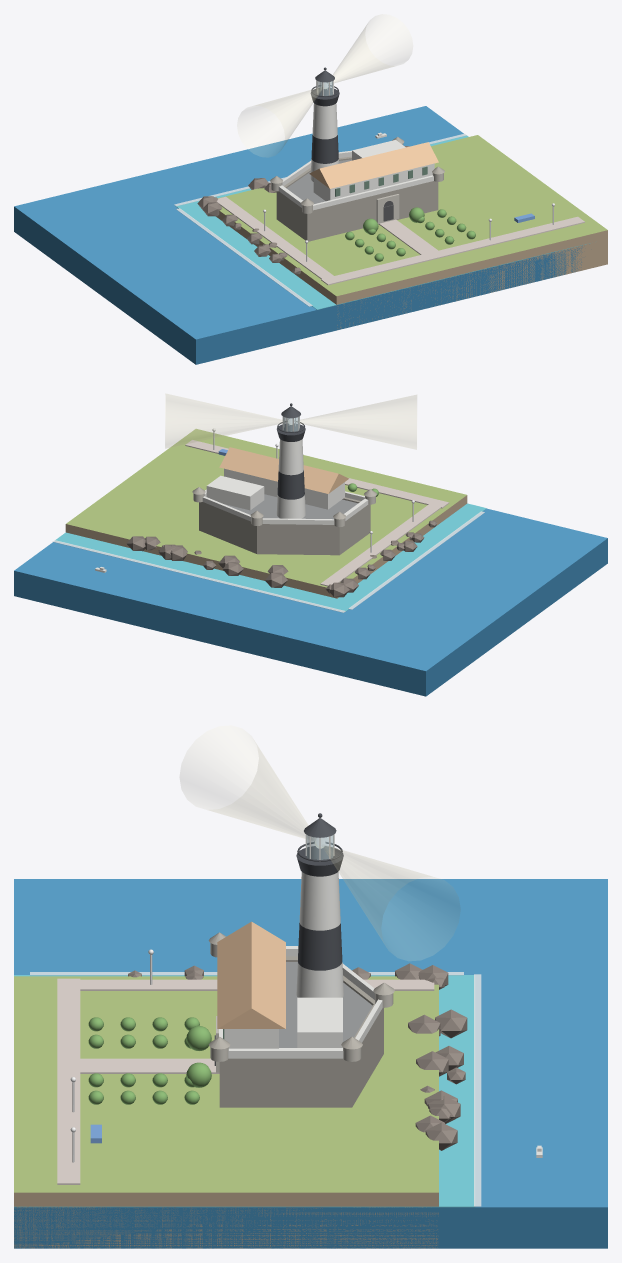
Rendered from farol-da-barra.gltf.
3 views of the same model, one above another, from view 1: azimuth 30°, elevation 25°; view 2: azimuth 150°, elevation 25°; view 3: azimuth 270°, elevation 25° (orthographic). The views are drawn at different scales.
Visible parts, largest first — view 1: FarolDaBarra; view 2: FarolDaBarra; view 3: FarolDaBarra.
Boxes of the visible parts, box(x1,y1,x2,y2) form: FarolDaBarra: box(14, 14, 607, 364); FarolDaBarra: box(14, 394, 607, 696); FarolDaBarra: box(14, 726, 607, 1248).
Size of the model in its own units: 17 by 7.15 by 13.
